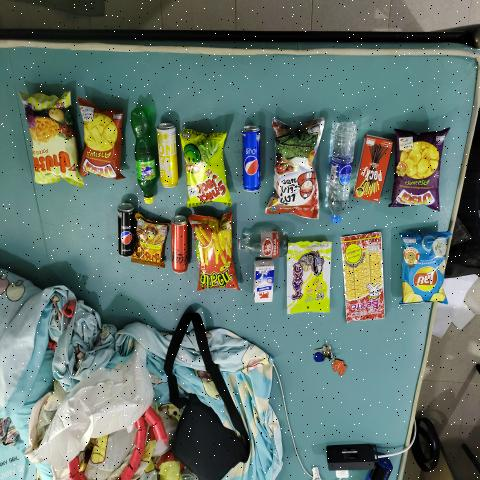bento_red: (344, 234, 386, 320)
coke_red: (169, 216, 189, 275)
crystal: (326, 115, 349, 225)
fanta_green: (130, 104, 156, 207)
lay_blue: (404, 239, 445, 302)
mama: (134, 213, 165, 270)
paprika: (28, 94, 78, 186)
party_purple: (395, 130, 438, 206)
party_red: (81, 105, 121, 182)
pepsi_black: (117, 206, 135, 258)
pepsi_blue: (240, 118, 263, 196)
pokki: (354, 130, 390, 209)
singha_soda: (234, 221, 287, 257)
singha_yellow: (156, 119, 180, 192)
snack_jack: (183, 132, 227, 200)
taokaenoi: (277, 124, 314, 216)
taro_yellow: (285, 242, 328, 314)
thai_denmark: (254, 263, 273, 304)
twisco: (194, 220, 235, 286)
